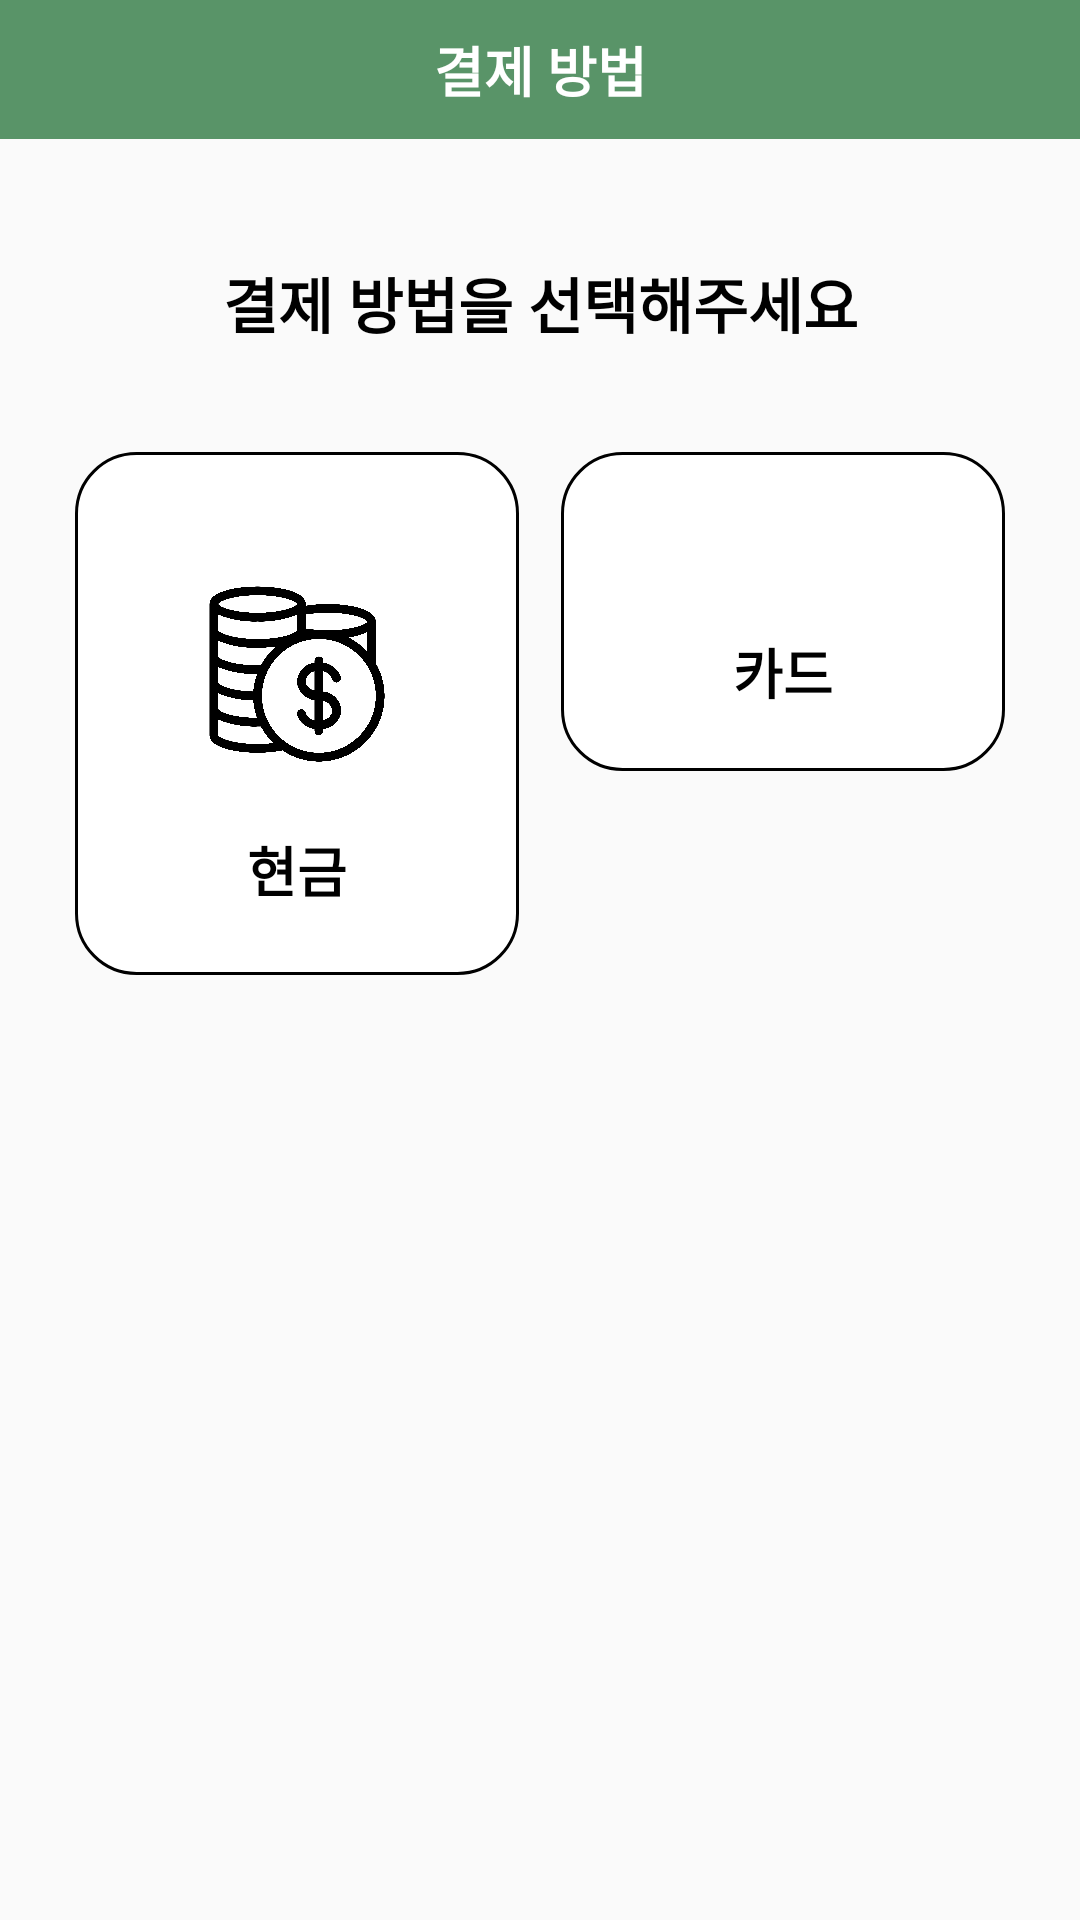

Icon click points for this 1080 × 1920 phone screenshot, format point (x, y):
cash: point (297, 674)
